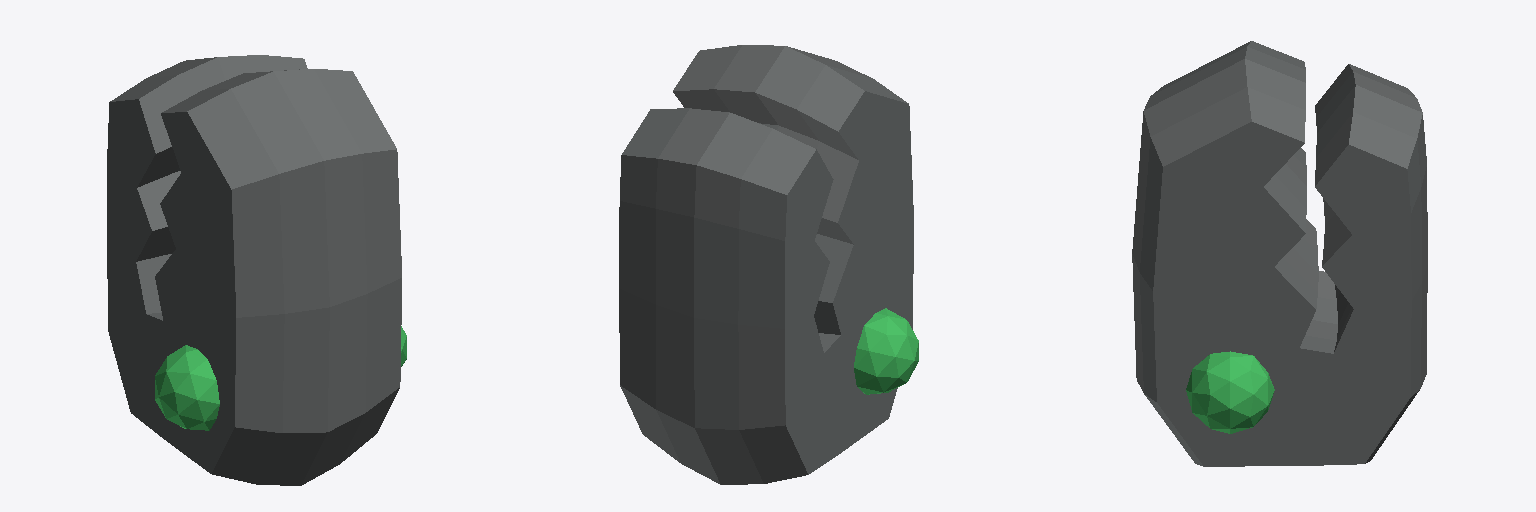
3 views of the same model, side by side, from view 1: azimuth 30°, elevation 25°; view 2: azimuth 150°, elevation 25°; view 3: azimuth 270°, elevation 25° (orthographic).
Parts seen in each view (by area): view 1: field; view 2: field; view 3: field.
Part boxes in pixels (bbox=[...]): field: bbox=[107, 55, 406, 485]; field: bbox=[619, 45, 918, 484]; field: bbox=[1132, 41, 1427, 466].
Size of the model in its own units: 2.64 by 4.09 by 2.78.
1 materials, 1 textured.